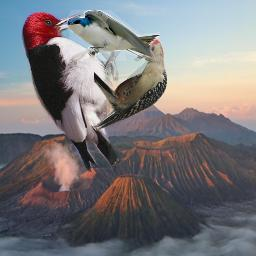Swallow: (67, 10, 160, 61)
Woodpecker: (21, 11, 121, 172), (94, 37, 167, 133)
